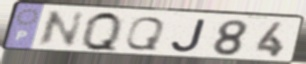4: (253, 20, 286, 59)
8: (211, 19, 250, 58)
J: (169, 18, 209, 54)
N: (34, 9, 87, 49)
Q: (81, 10, 124, 54), (122, 15, 168, 51)
